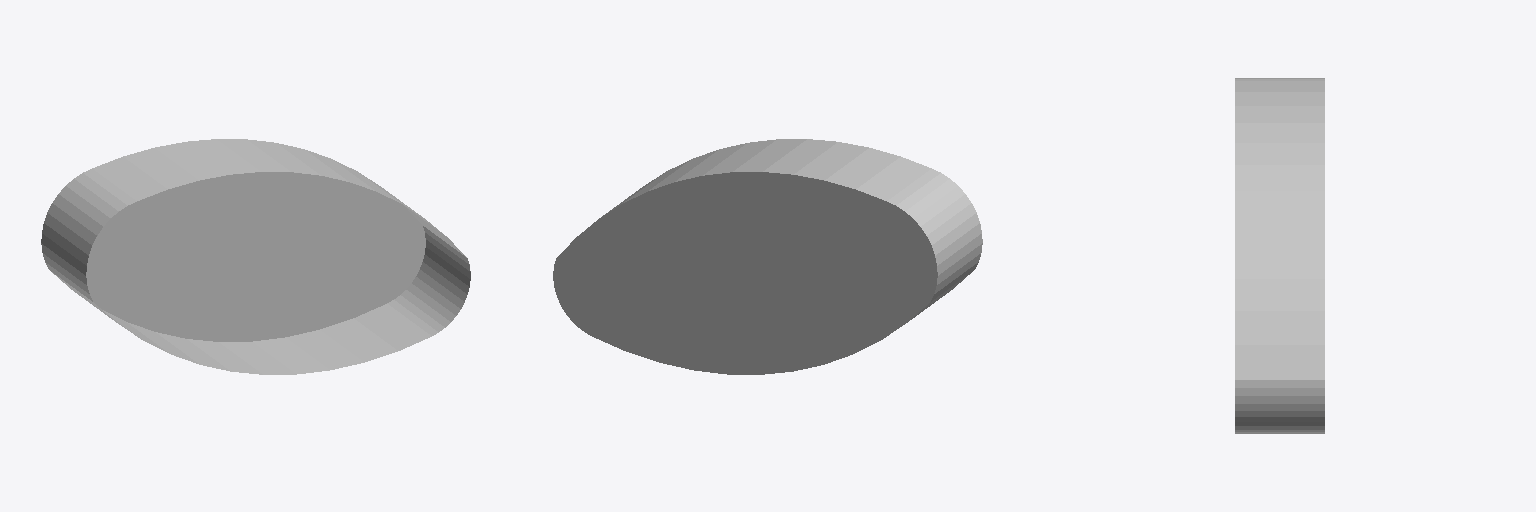
Rendered from original-29.obj.
The picture shows the model from 3 angles: view 1: azimuth 30°, elevation 25°; view 2: azimuth 150°, elevation 25°; view 3: azimuth 270°, elevation 25°; orthographic projection.
Visible parts, largest first — view 1: #ID179; view 2: #ID179; view 3: #ID179.
Boxes of the visible parts, x1=… form: #ID179: x1=41, y1=139, x2=470, y2=374; #ID179: x1=553, y1=139, x2=982, y2=374; #ID179: x1=1235, y1=78, x2=1324, y2=433.
Bounding box in the file's own units: 0.1628 × 0.09 × 0.033.